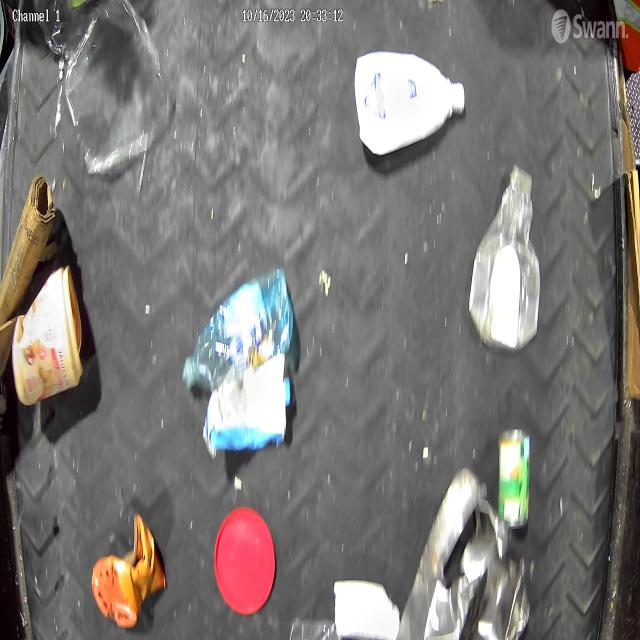can: (498, 427, 532, 529)
plastic_bottle: (183, 266, 294, 394), (467, 165, 541, 353)
